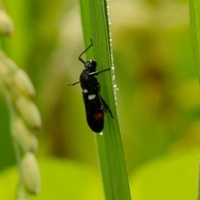insect: (66, 39, 113, 132)
